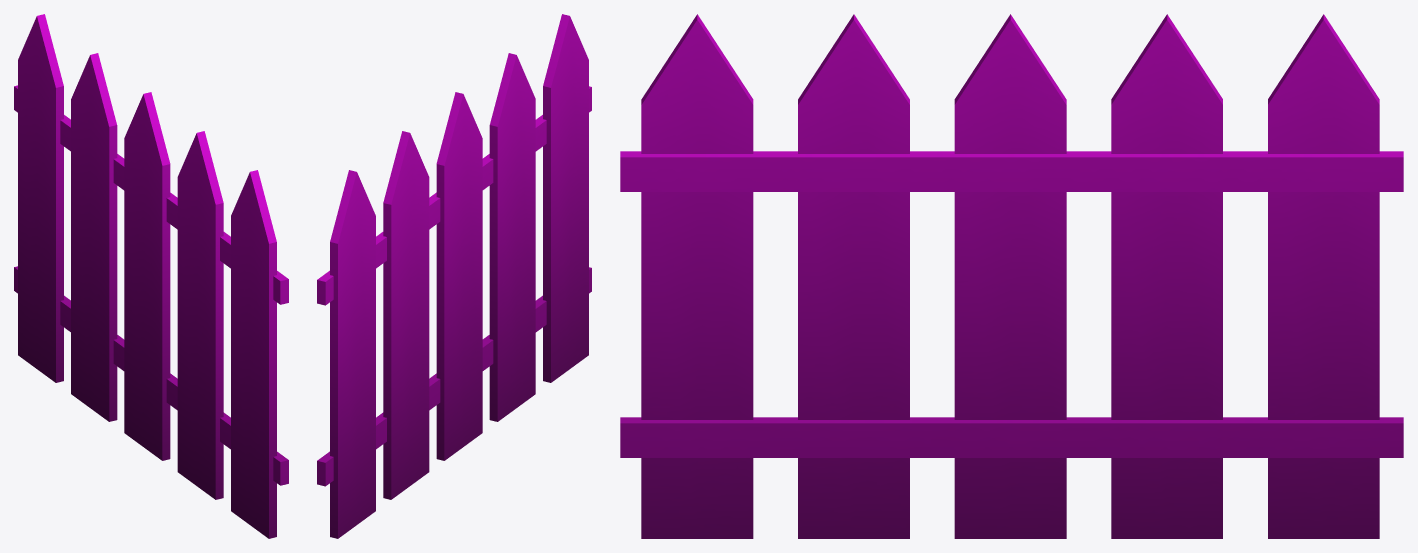
Rendered from Fence.fbx.
3 views of the same model, side by side, from view 1: azimuth 30°, elevation 25°; view 2: azimuth 150°, elevation 25°; view 3: azimuth 270°, elevation 25° (orthographic). The views are drawn at different scales.
Parts seen in each view (by area): view 1: Fence; view 2: Fence; view 3: Fence.
Part boxes in pixels (x1=…): Fence: x1=14, y1=14, x2=288, y2=538; Fence: x1=317, y1=14, x2=591, y2=538; Fence: x1=620, y1=14, x2=1403, y2=538.
Size of the model in its own units: 9.06 by 239 by 327.
